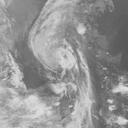cyclone: (30, 3, 87, 75)
